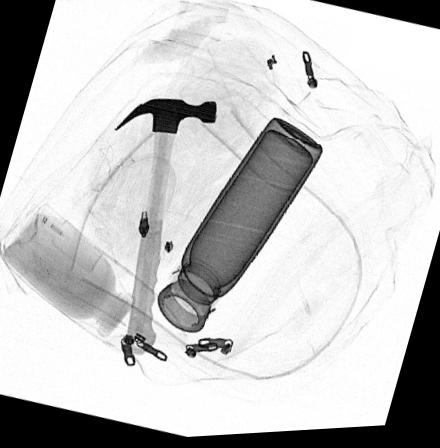Hammer: (113, 98, 216, 355)
